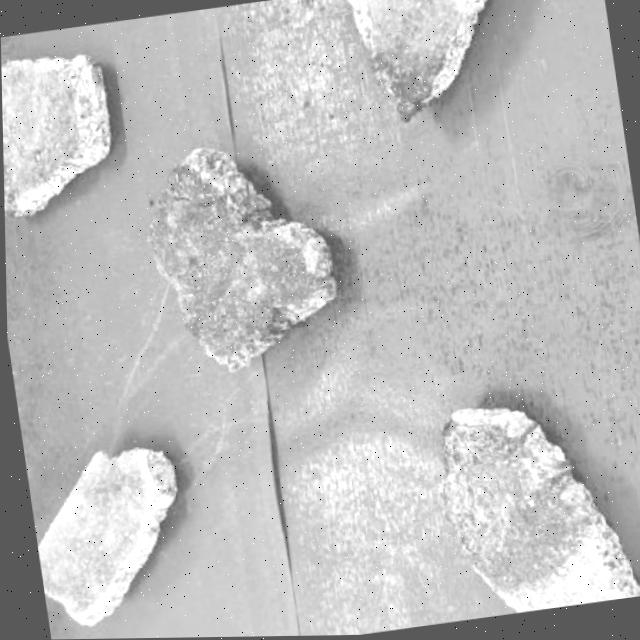Road Debris: (129, 139, 331, 380), (428, 396, 597, 600), (22, 438, 175, 614), (347, 0, 471, 129), (1, 47, 90, 211)
